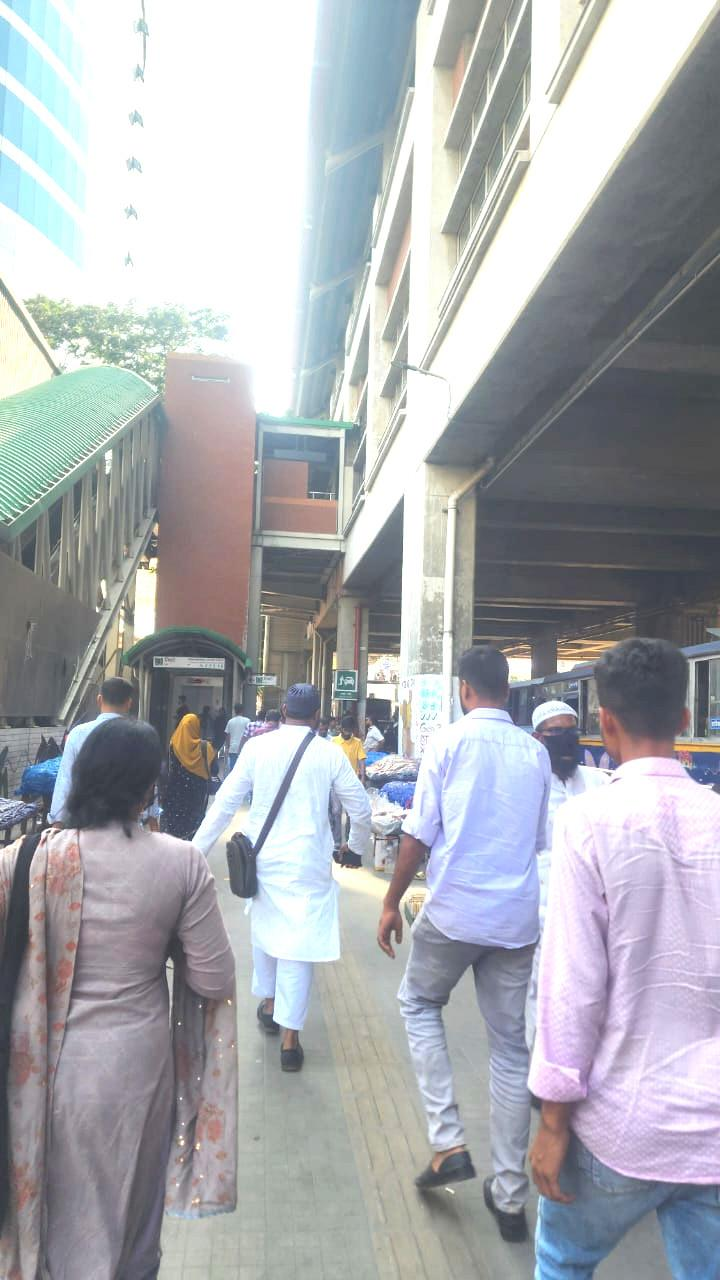Metro Dorp Up Pick up: (326, 656, 366, 700)
